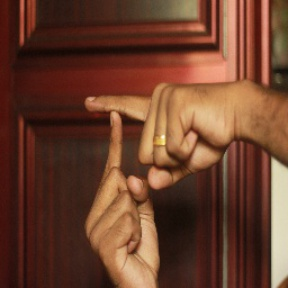T: (64, 85, 169, 218)
